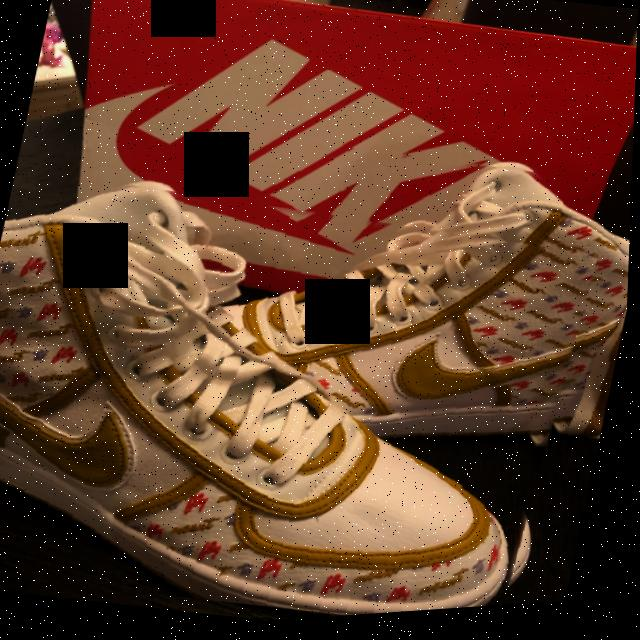shoe: (0, 137, 607, 640), (228, 123, 635, 467)
